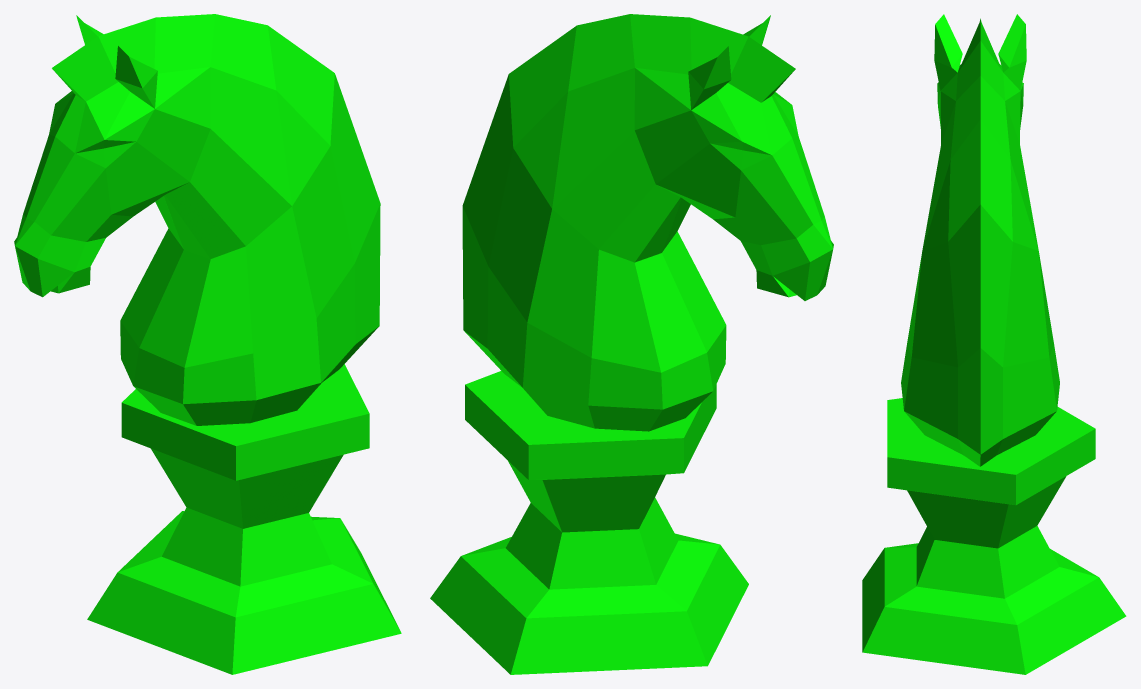
File: SM_Battlemap_Figurine_Horse_Fantasy.fbx
The picture shows the model from 3 angles, left to right: view 1: azimuth 30°, elevation 25°; view 2: azimuth 150°, elevation 25°; view 3: azimuth 270°, elevation 25°; orthographic projection. The views are drawn at different scales.
Visible parts, largest first — view 1: battlemap-figurine-horse-fantasy; view 2: battlemap-figurine-horse-fantasy; view 3: battlemap-figurine-horse-fantasy.
Boxes of the visible parts, box(x1,y1,x2,y2) form: battlemap-figurine-horse-fantasy: box(14, 14, 401, 674); battlemap-figurine-horse-fantasy: box(430, 14, 833, 674); battlemap-figurine-horse-fantasy: box(862, 14, 1126, 674).
Size of the model in its own units: 0.2427 by 0.3816 by 0.1701.
